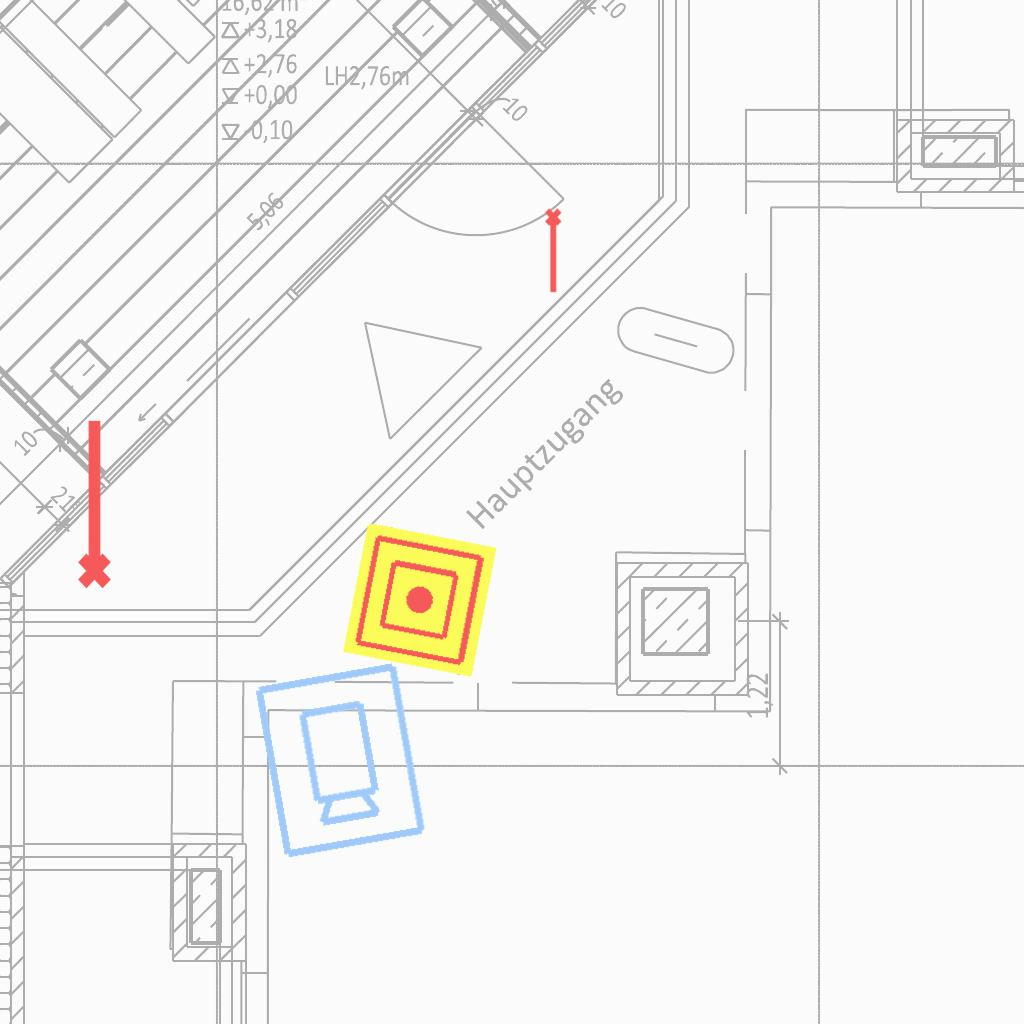ASR_Ansaugoeffnung: (69, 415, 115, 591), (543, 207, 566, 295)
KFO_Kamera_mit_Festobjektiv: (247, 657, 431, 863)
NAM-Nichtautomatischer_Melder: (342, 522, 498, 678)
